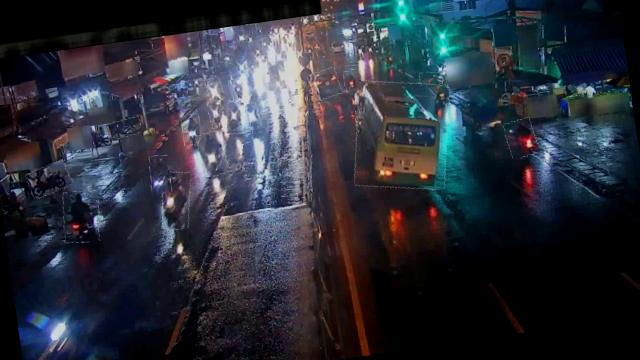Bike: (59, 188, 103, 245), (156, 170, 195, 232), (24, 160, 72, 198), (196, 130, 228, 177), (504, 116, 538, 158), (416, 71, 445, 108), (147, 155, 172, 194), (106, 116, 142, 140), (224, 100, 247, 134), (180, 114, 203, 146), (207, 99, 226, 129), (245, 100, 262, 133), (342, 68, 362, 93), (205, 76, 224, 102), (228, 76, 248, 100)
Bus: (344, 72, 458, 197)
Car: (308, 68, 342, 101)
